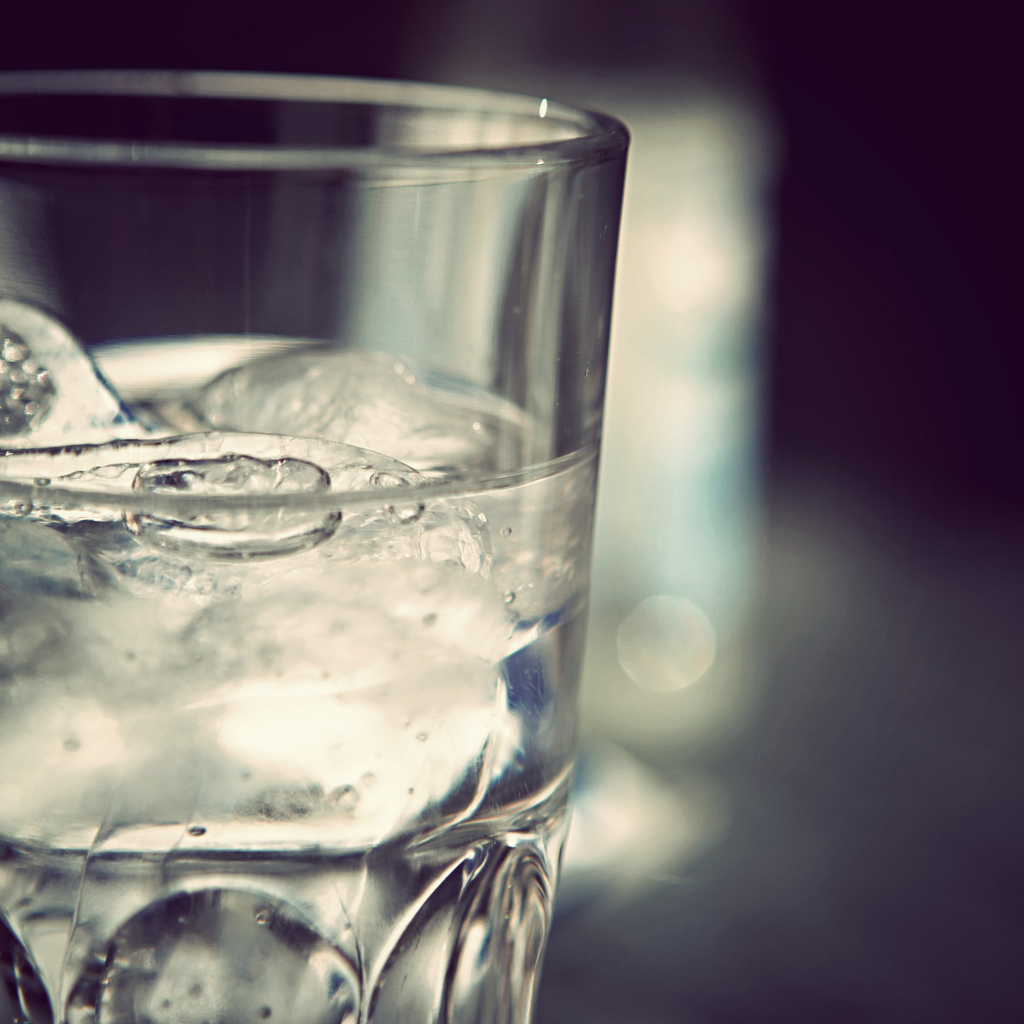glass of water: (1, 71, 576, 1024)
